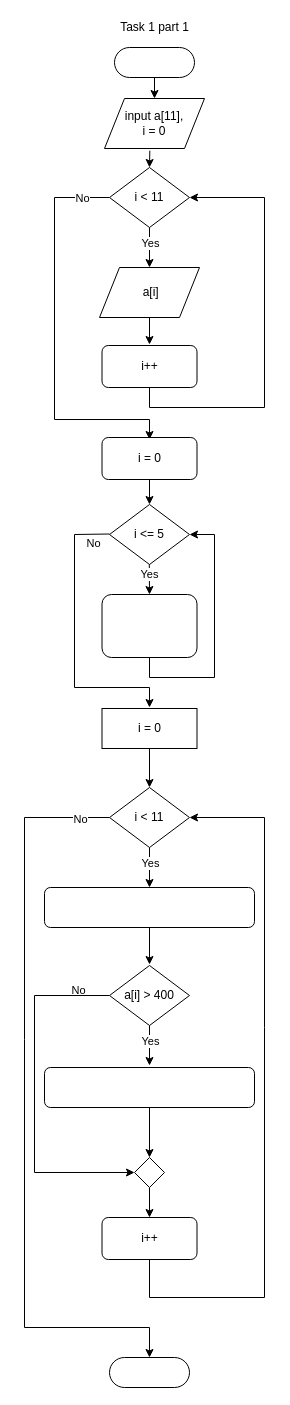
Some shapes in this 290 by 1405 pixel diagram are drawn without their labels. The centre of each missing label's shape, as x and y in pixels:
a[i] = sqrt(fabs(a[i])) + 5 * pow(a[i], 3): point 149,907
end: point 149,1372
print: "element i is greater, then 400": point 149,1087
res = a[i] a[i] = a[11-i] a[11-i] = res i++: point 149,626
start: point 154,62
